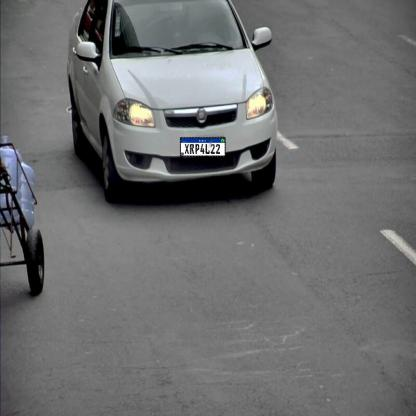PlacaM: (180, 137, 226, 157)
